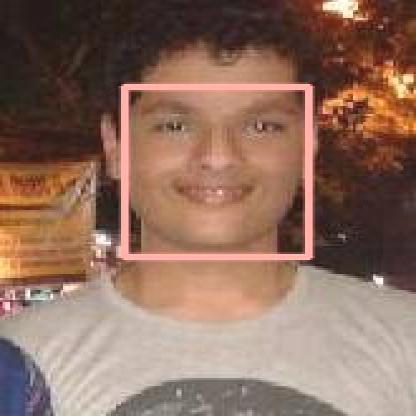without_mask: (124, 86, 308, 256)
